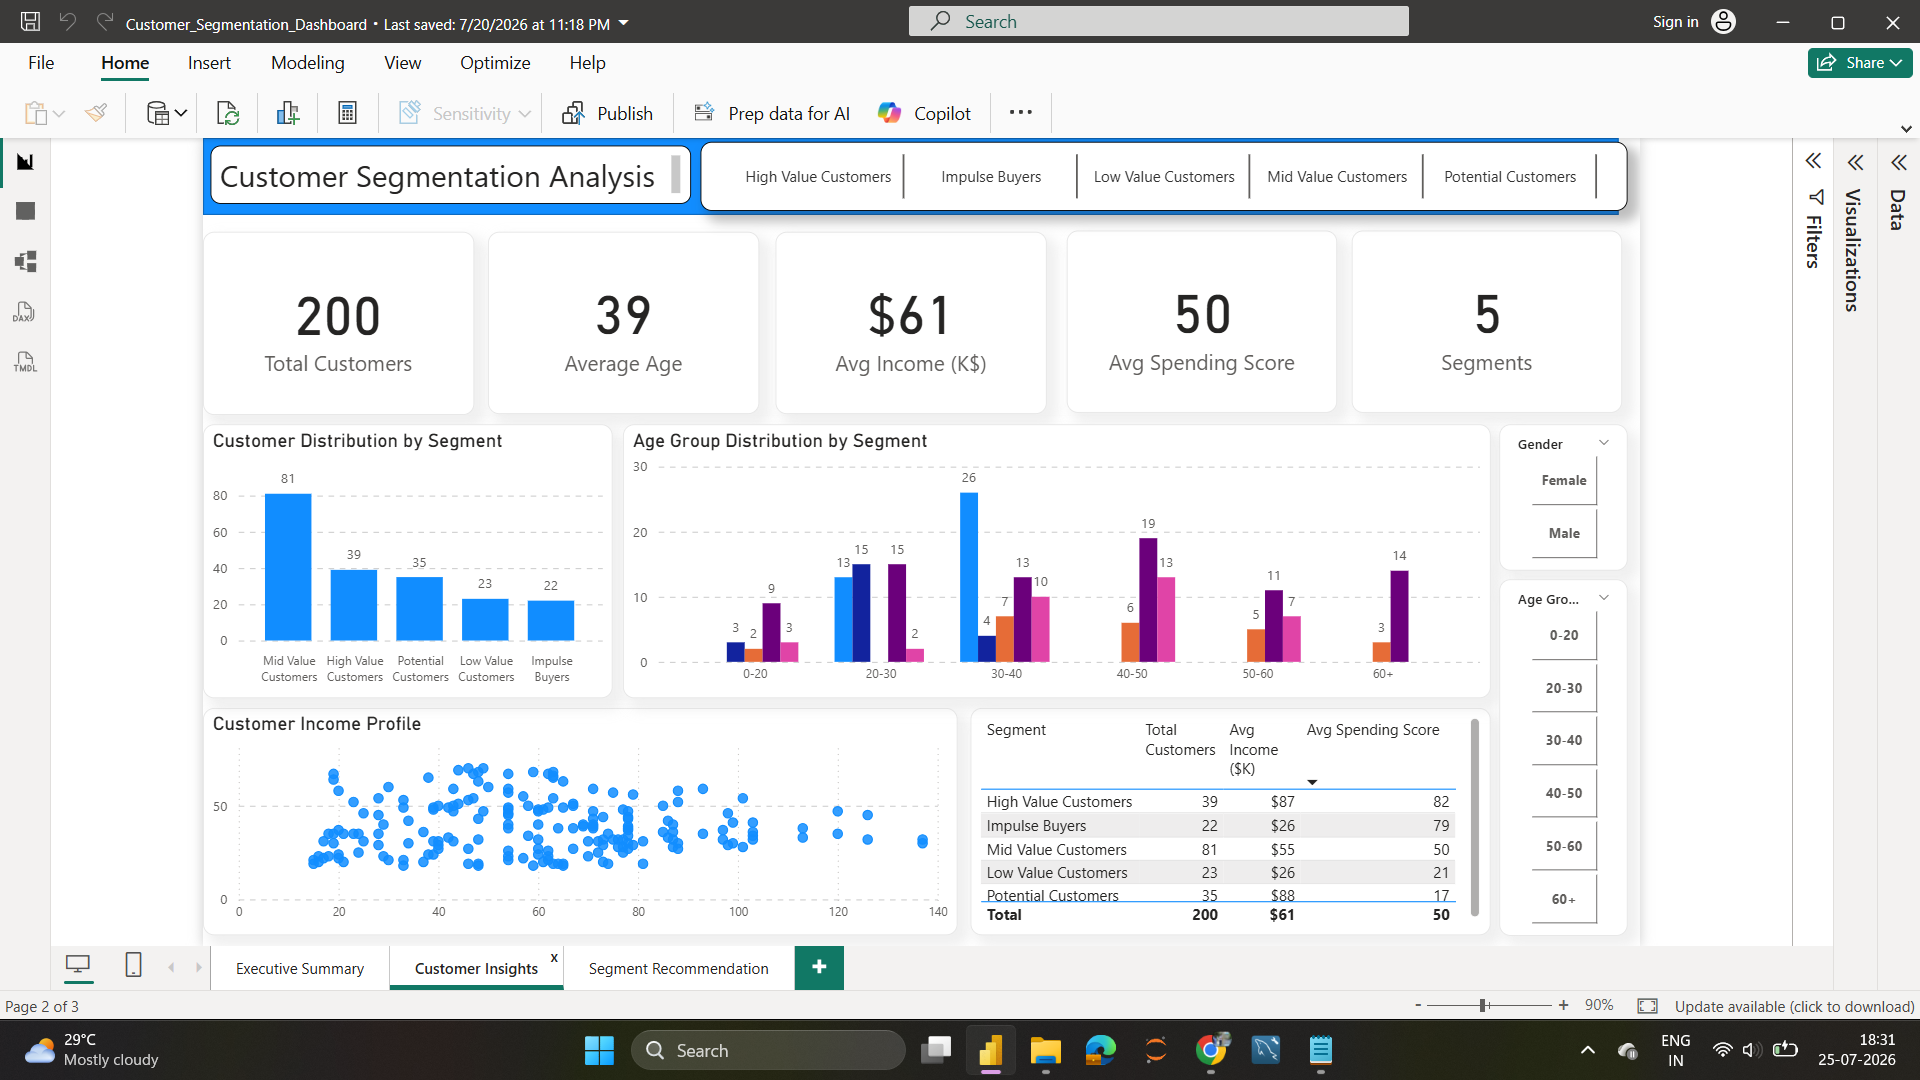

The dashboard page shown, as its layout file describes it:
{"tool":"powerbi","page":{"name":"Customer Insights","canvas":[1280,720],"ordinal":1},"visuals":[{"type":"shape","box":[0,0,1260.7,68.5],"z":0},{"type":"scatterChart","title":"Customer Income Profile","fields":{"Y":["Segmented_CustomerData.Age"],"X":["Segmented_CustomerData.Annual Income (k$)"]},"box":[0,507.6,672.4,202.6],"z":1000},{"type":"card","fields":{"Values":["Query1.Total Customers"]},"box":[0,83.5,241.2,162.9],"z":2000},{"type":"card","fields":{"Values":["Query1.Average Age"]},"box":[253.8,83.5,241.6,162.5],"z":3000},{"type":"card","fields":{"Values":["Query1.Average Income"]},"box":[509.8,83.5,241.6,162.5],"z":4000},{"type":"card","fields":{"Values":["Query1.Average Spending Score"]},"box":[769.1,82.4,241,162],"z":5000},{"type":"card","fields":{"Values":["Query1.Segments"]},"box":[1023.5,82.4,241,162],"z":6000},{"type":"tableEx","fields":{"Values":["Segmented_CustomerData.Segment","Query1.Total Customers","Query1.Average Income","Query1.Average Spending Score"]},"box":[683.5,507.6,463.1,202.6],"z":7000},{"type":"clusteredColumnChart","title":"Customer Distribution  by Segment","fields":{"Category":["Segmented_CustomerData.Segment"],"Y":["CountNonNull(Segmented_CustomerData.CustomerID)"]},"box":[0,254.9,365.1,243.8],"z":8000},{"type":"clusteredColumnChart","title":"Age Group Distribution by Segment","fields":{"Category":["Segmented_CustomerData.Age Group"],"Y":["CountNonNull(Segmented_CustomerData.CustomerID)"],"Series":["Segmented_CustomerData.Segment"]},"box":[374,254.9,772.5,243.8],"z":9000},{"type":"textbox","box":[7,7,427.9,52.3],"z":10000},{"type":"slicer","title":"Gender","fields":{"Values":["Segmented_CustomerData.Gender"]},"box":[1154.4,254.9,114.7,130.2],"z":11000},{"type":"slicer","title":"Age Group","fields":{"Values":["Segmented_CustomerData.Age Group"]},"box":[1154.4,393,114.7,317.3],"z":12000},{"type":"slicer","fields":{"Values":["Segmented_CustomerData.Segment"]},"box":[442.7,3.4,825.8,61.8],"z":13000}]}

Visuals, with their boxes on the page's 1280x720 design canvas (x1, y1, x2, y2). These are canvas units, not pixel positions in the 1920x1080 screenshot, which may show the page scaled, cropped or inside an application window:
shape: [left=0, top=0, right=1261, bottom=68]
"Customer Income Profile" scatterChart: [left=0, top=508, right=672, bottom=710]
card - Query1.Total Customers: [left=0, top=84, right=241, bottom=246]
card - Query1.Average Age: [left=254, top=84, right=495, bottom=246]
card - Query1.Average Income: [left=510, top=84, right=751, bottom=246]
card - Query1.Average Spending Score: [left=769, top=82, right=1010, bottom=244]
card - Query1.Segments: [left=1024, top=82, right=1264, bottom=244]
tableEx - Segmented_CustomerData.Segment x Query1.Total Customers: [left=684, top=508, right=1147, bottom=710]
"Customer Distribution  by Segment" clusteredColumnChart: [left=0, top=255, right=365, bottom=499]
"Age Group Distribution by Segment" clusteredColumnChart: [left=374, top=255, right=1146, bottom=499]
textbox: [left=7, top=7, right=435, bottom=59]
"Gender" slicer: [left=1154, top=255, right=1269, bottom=385]
"Age Group" slicer: [left=1154, top=393, right=1269, bottom=710]
slicer - Segmented_CustomerData.Segment: [left=443, top=3, right=1268, bottom=65]
